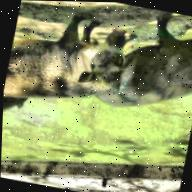boar: (2, 7, 140, 142), (83, 30, 192, 142)
